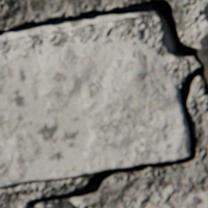brick: (0, 30, 188, 186), (148, 191, 207, 207), (198, 31, 207, 84), (44, 203, 76, 207), (201, 2, 207, 23)
crack: (0, 0, 207, 206)
